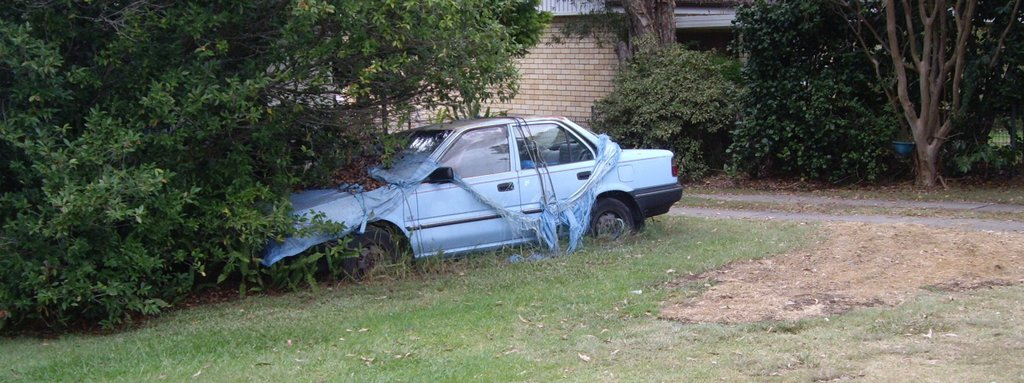Tree: (0, 0, 554, 330), (722, 0, 916, 191), (837, 0, 1023, 193), (584, 0, 675, 65)
